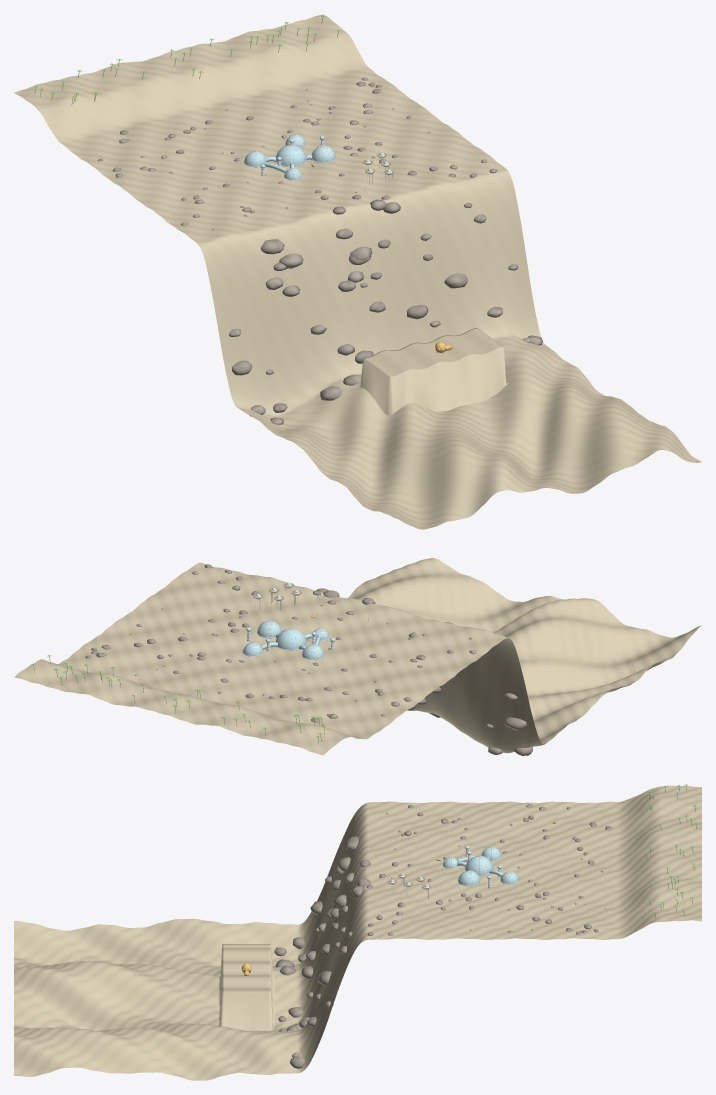
Rendered from world.glb.
3 views of the same model, one above another, from view 1: azimuth 30°, elevation 25°; view 2: azimuth 150°, elevation 25°; view 3: azimuth 270°, elevation 25° (orthographic). The views are drawn at different scales.
Visible parts, largest first — view 1: seabed, rock, dome_glass, dome_frame; view 2: seabed, rock, dome_glass, dome_frame, palm_leaf; view 3: seabed, rock, dome_glass, dome_frame.
Boxes of the visible parts, bbox=[...] form: seabed: bbox=[14, 14, 701, 529]; rock: bbox=[97, 77, 542, 424]; dome_glass: bbox=[244, 134, 391, 179]; dome_frame: bbox=[244, 134, 442, 354]; seabed: bbox=[14, 558, 701, 755]; rock: bbox=[85, 564, 532, 755]; dome_glass: bbox=[243, 582, 334, 659]; dome_frame: bbox=[242, 587, 368, 660]; palm_leaf: bbox=[31, 655, 326, 738]; seabed: bbox=[14, 785, 701, 1080]; rock: bbox=[274, 804, 612, 1068]; dome_glass: bbox=[390, 845, 518, 887]; dome_frame: bbox=[242, 847, 519, 973].
Size of the model in its own units: 320 by 189 by 680.
